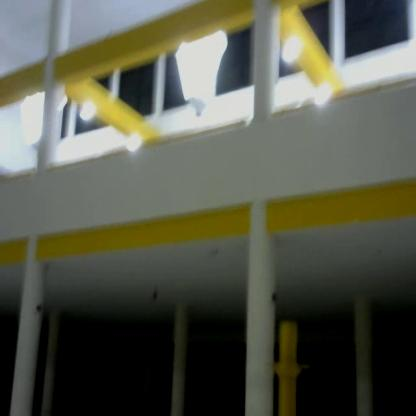pole: (267, 315, 315, 416)
